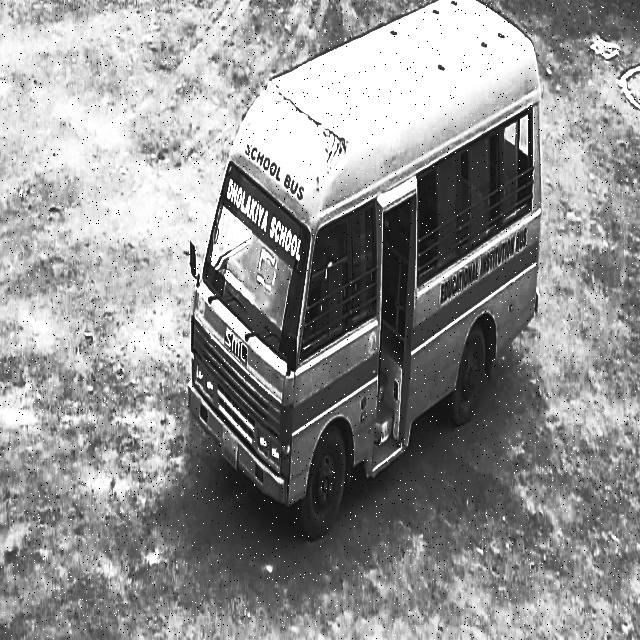Bus: (184, 4, 546, 538)
